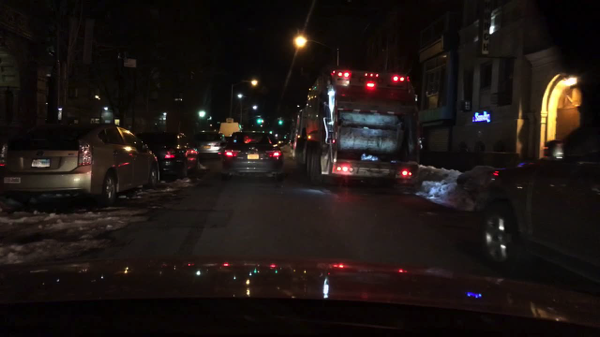bus: (218, 118, 243, 138)
car: (471, 123, 598, 294), (0, 120, 162, 209), (220, 131, 285, 184), (135, 129, 200, 179), (191, 130, 225, 162)
traffic light: (198, 109, 206, 118), (256, 118, 263, 126), (278, 118, 283, 125)
truck: (292, 69, 424, 188)
